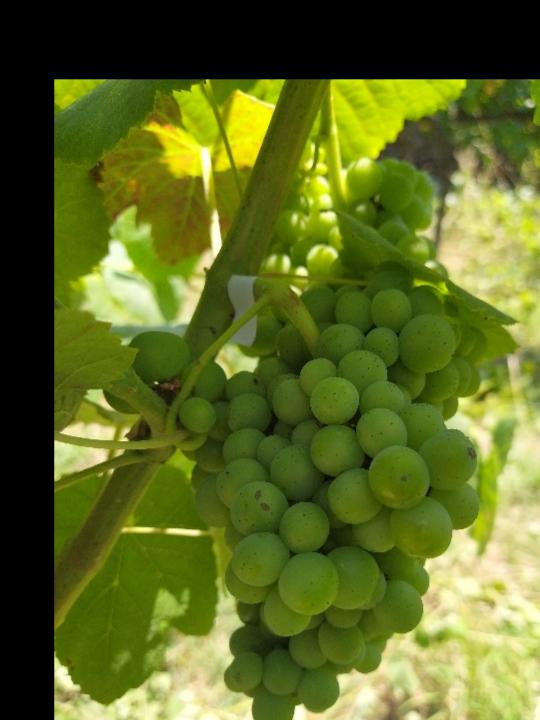grape: (103, 261, 481, 720)
